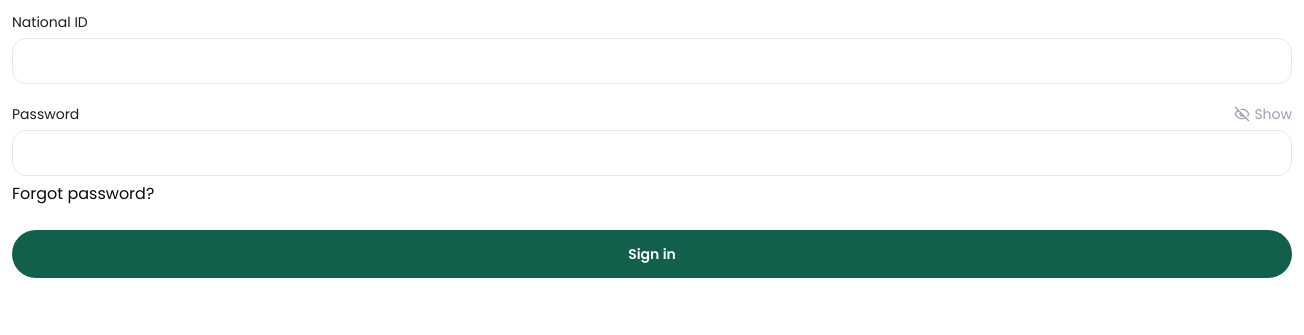
Test case: PatientSignInForm › falls back to a generic server error for non-ApiError failures
In the field labelled "National ID": point(652, 61) [12,38,1292,84], type "12345678901234"
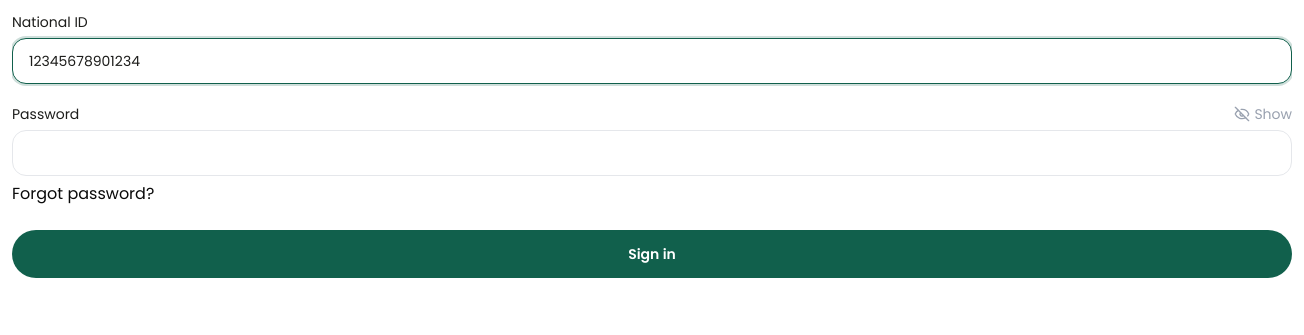
In the password field labelled "Password": point(652, 153) [12,130,1292,176], type "Abcdef1!"
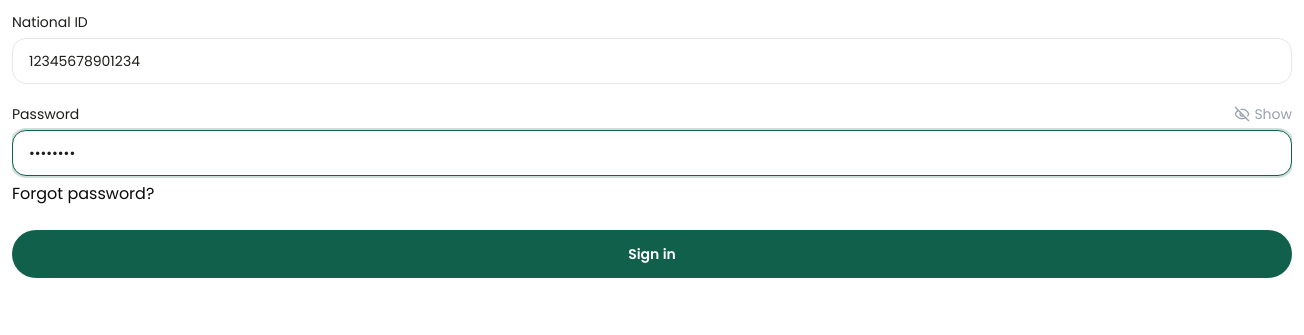
Click the button "Sign in": point(652, 254) [12,230,1292,278]
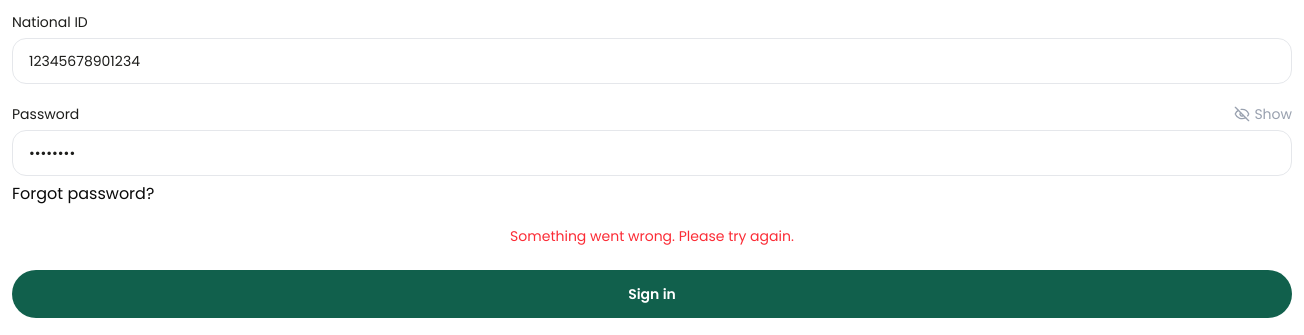
Expected: the text "Something went wrong. Please try again." is shown, [510,226,794,246]
